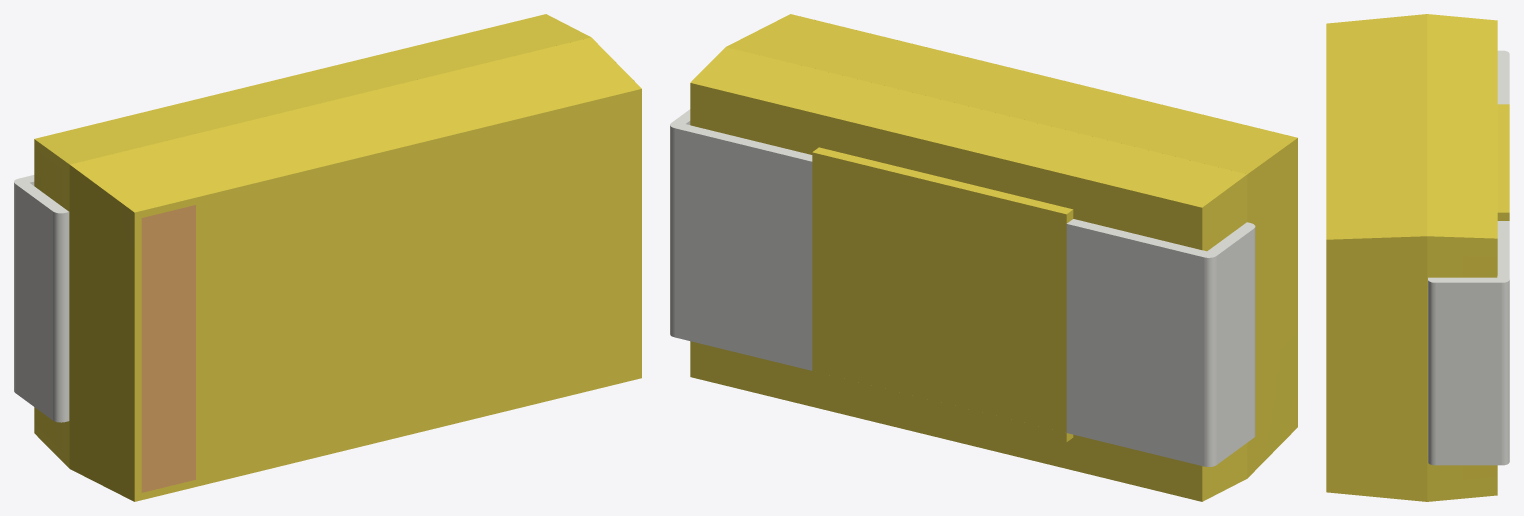
File: CP_EIA-6032-20_AVX-F.glb
3 views of the same model, side by side, from view 1: azimuth 30°, elevation 25°; view 2: azimuth 150°, elevation 25°; view 3: azimuth 270°, elevation 25° (orthographic). The views are drawn at different scales.
Visible parts, largest first — view 1: Shape_IndexedFaceSet.030, Shape_IndexedFaceSet.028, Shape_IndexedFaceSet.016, Shape_IndexedFaceSet.015, Shape_IndexedFaceSet.042, Shape_IndexedFaceSet, Shape_IndexedFaceSet.009, Shape_IndexedFaceSet.003, Shape_IndexedFaceSet.006; view 2: Shape_IndexedFaceSet.014, Shape_IndexedFaceSet.005, Shape_IndexedFaceSet.027, Shape_IndexedFaceSet.028, Shape_IndexedFaceSet.015, Shape_IndexedFaceSet.013, Shape_IndexedFaceSet.010, Shape_IndexedFaceSet.016, Shape_IndexedFaceSet, Shape_IndexedFaceSet.009, Shape_IndexedFaceSet.002, Shape_IndexedFaceSet.022 (+5 smaller); view 3: Shape_IndexedFaceSet.031, Shape_IndexedFaceSet.028, Shape_IndexedFaceSet.015, Shape_IndexedFaceSet.036, Shape_IndexedFaceSet.018, Shape_IndexedFaceSet.037, Shape_IndexedFaceSet.035, Shape_IndexedFaceSet.023, Shape_IndexedFaceSet.026, Shape_IndexedFaceSet.004.
Boxes of the visible parts, x1,y1,x2,y2 form: Shape_IndexedFaceSet.030: (134, 89, 641, 501); Shape_IndexedFaceSet.028: (70, 37, 641, 212); Shape_IndexedFaceSet.016: (69, 165, 134, 501); Shape_IndexedFaceSet.015: (35, 14, 590, 164); Shape_IndexedFaceSet.042: (141, 205, 195, 492); Shape_IndexedFaceSet: (15, 184, 52, 420); Shape_IndexedFaceSet.009: (34, 139, 69, 468); Shape_IndexedFaceSet.003: (53, 211, 65, 422); Shape_IndexedFaceSet.006: (65, 212, 69, 421); Shape_IndexedFaceSet.014: (812, 162, 1066, 432); Shape_IndexedFaceSet.005: (1066, 224, 1204, 466); Shape_IndexedFaceSet.027: (674, 128, 812, 370); Shape_IndexedFaceSet.028: (726, 14, 1297, 174); Shape_IndexedFaceSet.015: (690, 47, 1246, 207); Shape_IndexedFaceSet.013: (690, 83, 1202, 249); Shape_IndexedFaceSet.010: (690, 341, 1202, 501); Shape_IndexedFaceSet.016: (1247, 138, 1297, 478); Shape_IndexedFaceSet: (1216, 228, 1254, 464); Shape_IndexedFaceSet.009: (1202, 175, 1247, 501); Shape_IndexedFaceSet.002: (1204, 256, 1216, 466); Shape_IndexedFaceSet.022: (812, 371, 1066, 442); Shape_IndexedFaceSet.031: (1326, 236, 1427, 501); Shape_IndexedFaceSet.028: (1326, 14, 1427, 239); Shape_IndexedFaceSet.015: (1427, 14, 1497, 238); Shape_IndexedFaceSet.036: (1435, 282, 1501, 465); Shape_IndexedFaceSet.018: (1427, 236, 1497, 501); Shape_IndexedFaceSet.037: (1501, 280, 1509, 465); Shape_IndexedFaceSet.035: (1428, 280, 1435, 465); Shape_IndexedFaceSet.023: (1497, 104, 1509, 212); Shape_IndexedFaceSet.026: (1428, 221, 1509, 282); Shape_IndexedFaceSet.004: (1497, 50, 1509, 104).
Size of what is drawn, in the model's own units: 2.36 by 1.26 by 0.787.
